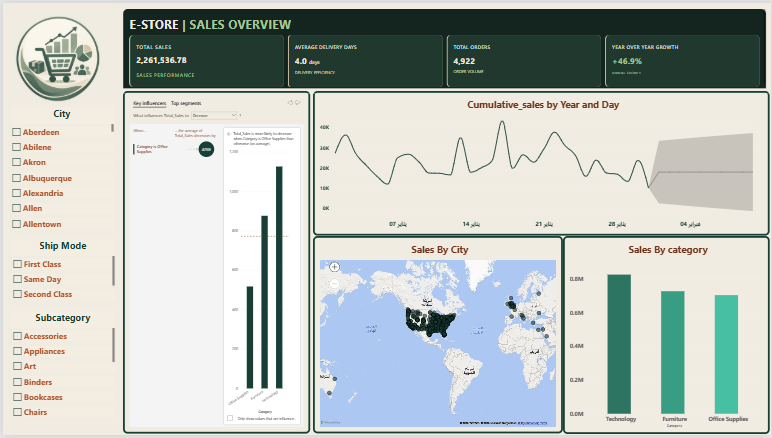

Layout of this report page (visuals, bound fields, positions):
{"tool":"powerbi","page":{"name":"Executive overview","canvas":[2560,1440],"ordinal":1},"visuals":[{"type":"lineChart","fields":{"Category":["Orders.OrderDate.Variation.Date Hierarchy.Year","Orders.OrderDate.Variation.Date Hierarchy.Day"],"Y":["_Measures.Cumulative_sales"]},"box":[1034.6,294.8,1522.2,481.9],"z":1000},{"type":"columnChart","title":"Sales By category","fields":{"Category":["Products.Category"],"Y":["_Measures.Total_Sales"]},"box":[1868,776.7,688.8,660.5],"z":2000},{"type":"keyDriversVisual","fields":{"ExplainBy":["Orders.ShipMode","Products.Category","Orders.City","Customers.Segment"],"Target":["_Measures.Total_Sales"]},"box":[399.7,294.8,623.6,1142.4],"z":3000},{"type":"map","title":"Sales By City","fields":{"Category":["Orders.City"]},"box":[1031.8,776.7,833.4,657.6],"z":4000},{"type":"image","box":[25.5,25.5,317.5,320.3],"z":5000},{"type":"slicer","title":"City","fields":{"Values":["Orders.City"]},"box":[22.7,345.8,345.8,416.7],"z":6000},{"type":"slicer","title":"Ship Mode","fields":{"Values":["Orders.ShipMode"]},"box":[25.5,785.2,345.8,198.4],"z":7000},{"type":"slicer","title":"Subcategory","fields":{"Values":["Products.SubCategory"]},"box":[25.5,1026.1,345.8,371.3],"z":8000},{"type":"htmlContent443BE3AD55E043BF878BED274D3A6855","fields":{"content":["Customers.Estore_overview_HTML"]},"box":[383,2.8,2177,297.6],"z":9000}]}

Visuals, with their boxes in screenshot pixels (x1, y1, x2, y2), scaled from the page's 2560x1440 canvas onto the 772x438 screenshot:
lineChart - Orders.OrderDate.Variation.Date Hierarchy.Year x Orders.OrderDate.Variation.Date Hierarchy.Day: (312,90,771,236)
"Sales By category" columnChart: (563,236,771,437)
keyDriversVisual - Orders.ShipMode x Products.Category: (121,90,309,437)
"Sales By City" map: (311,236,562,436)
image: (8,8,103,105)
"City" slicer: (7,105,111,232)
"Ship Mode" slicer: (8,239,112,299)
"Subcategory" slicer: (8,312,112,425)
htmlContent443BE3AD55E043BF878BED274D3A6855 - Customers.Estore_overview_HTML: (115,1,771,91)
